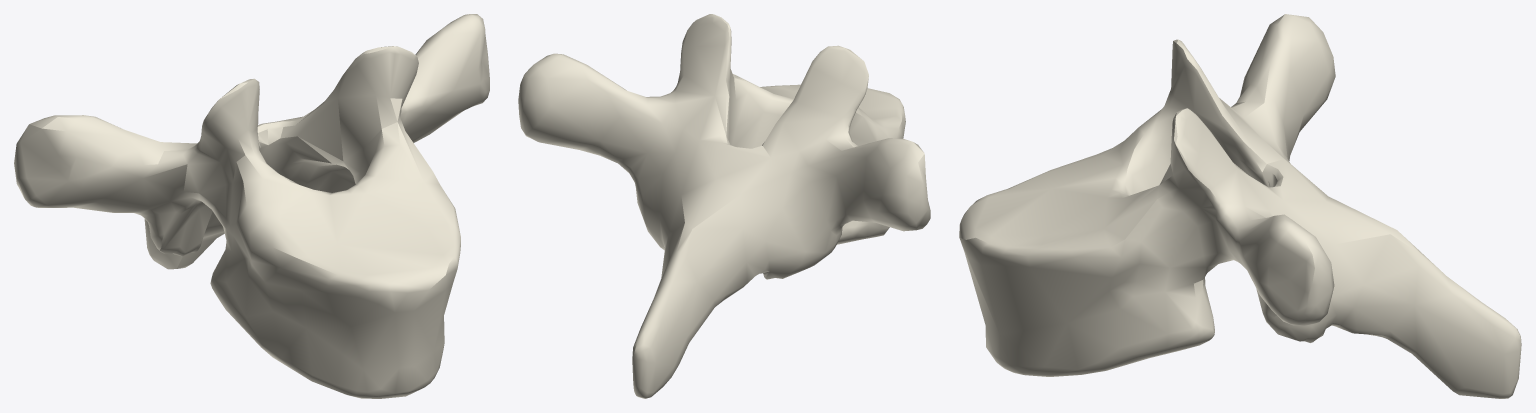
Rendered from fma9248_fj3166.glb.
3 views of the same model, side by side, from view 1: azimuth 30°, elevation 25°; view 2: azimuth 150°, elevation 25°; view 3: azimuth 270°, elevation 25° (orthographic). The views are drawn at different scales.
Parts seen in each view (by area): view 1: FMA9248_FJ3166; view 2: FMA9248_FJ3166; view 3: FMA9248_FJ3166.
Part boxes in pixels (box(x1,y1,x2,y2)): FMA9248_FJ3166: box(14, 14, 489, 398); FMA9248_FJ3166: box(518, 14, 930, 398); FMA9248_FJ3166: box(959, 14, 1521, 398).
Size of the model in its own units: 0.0697 by 0.0437 by 0.0694.
